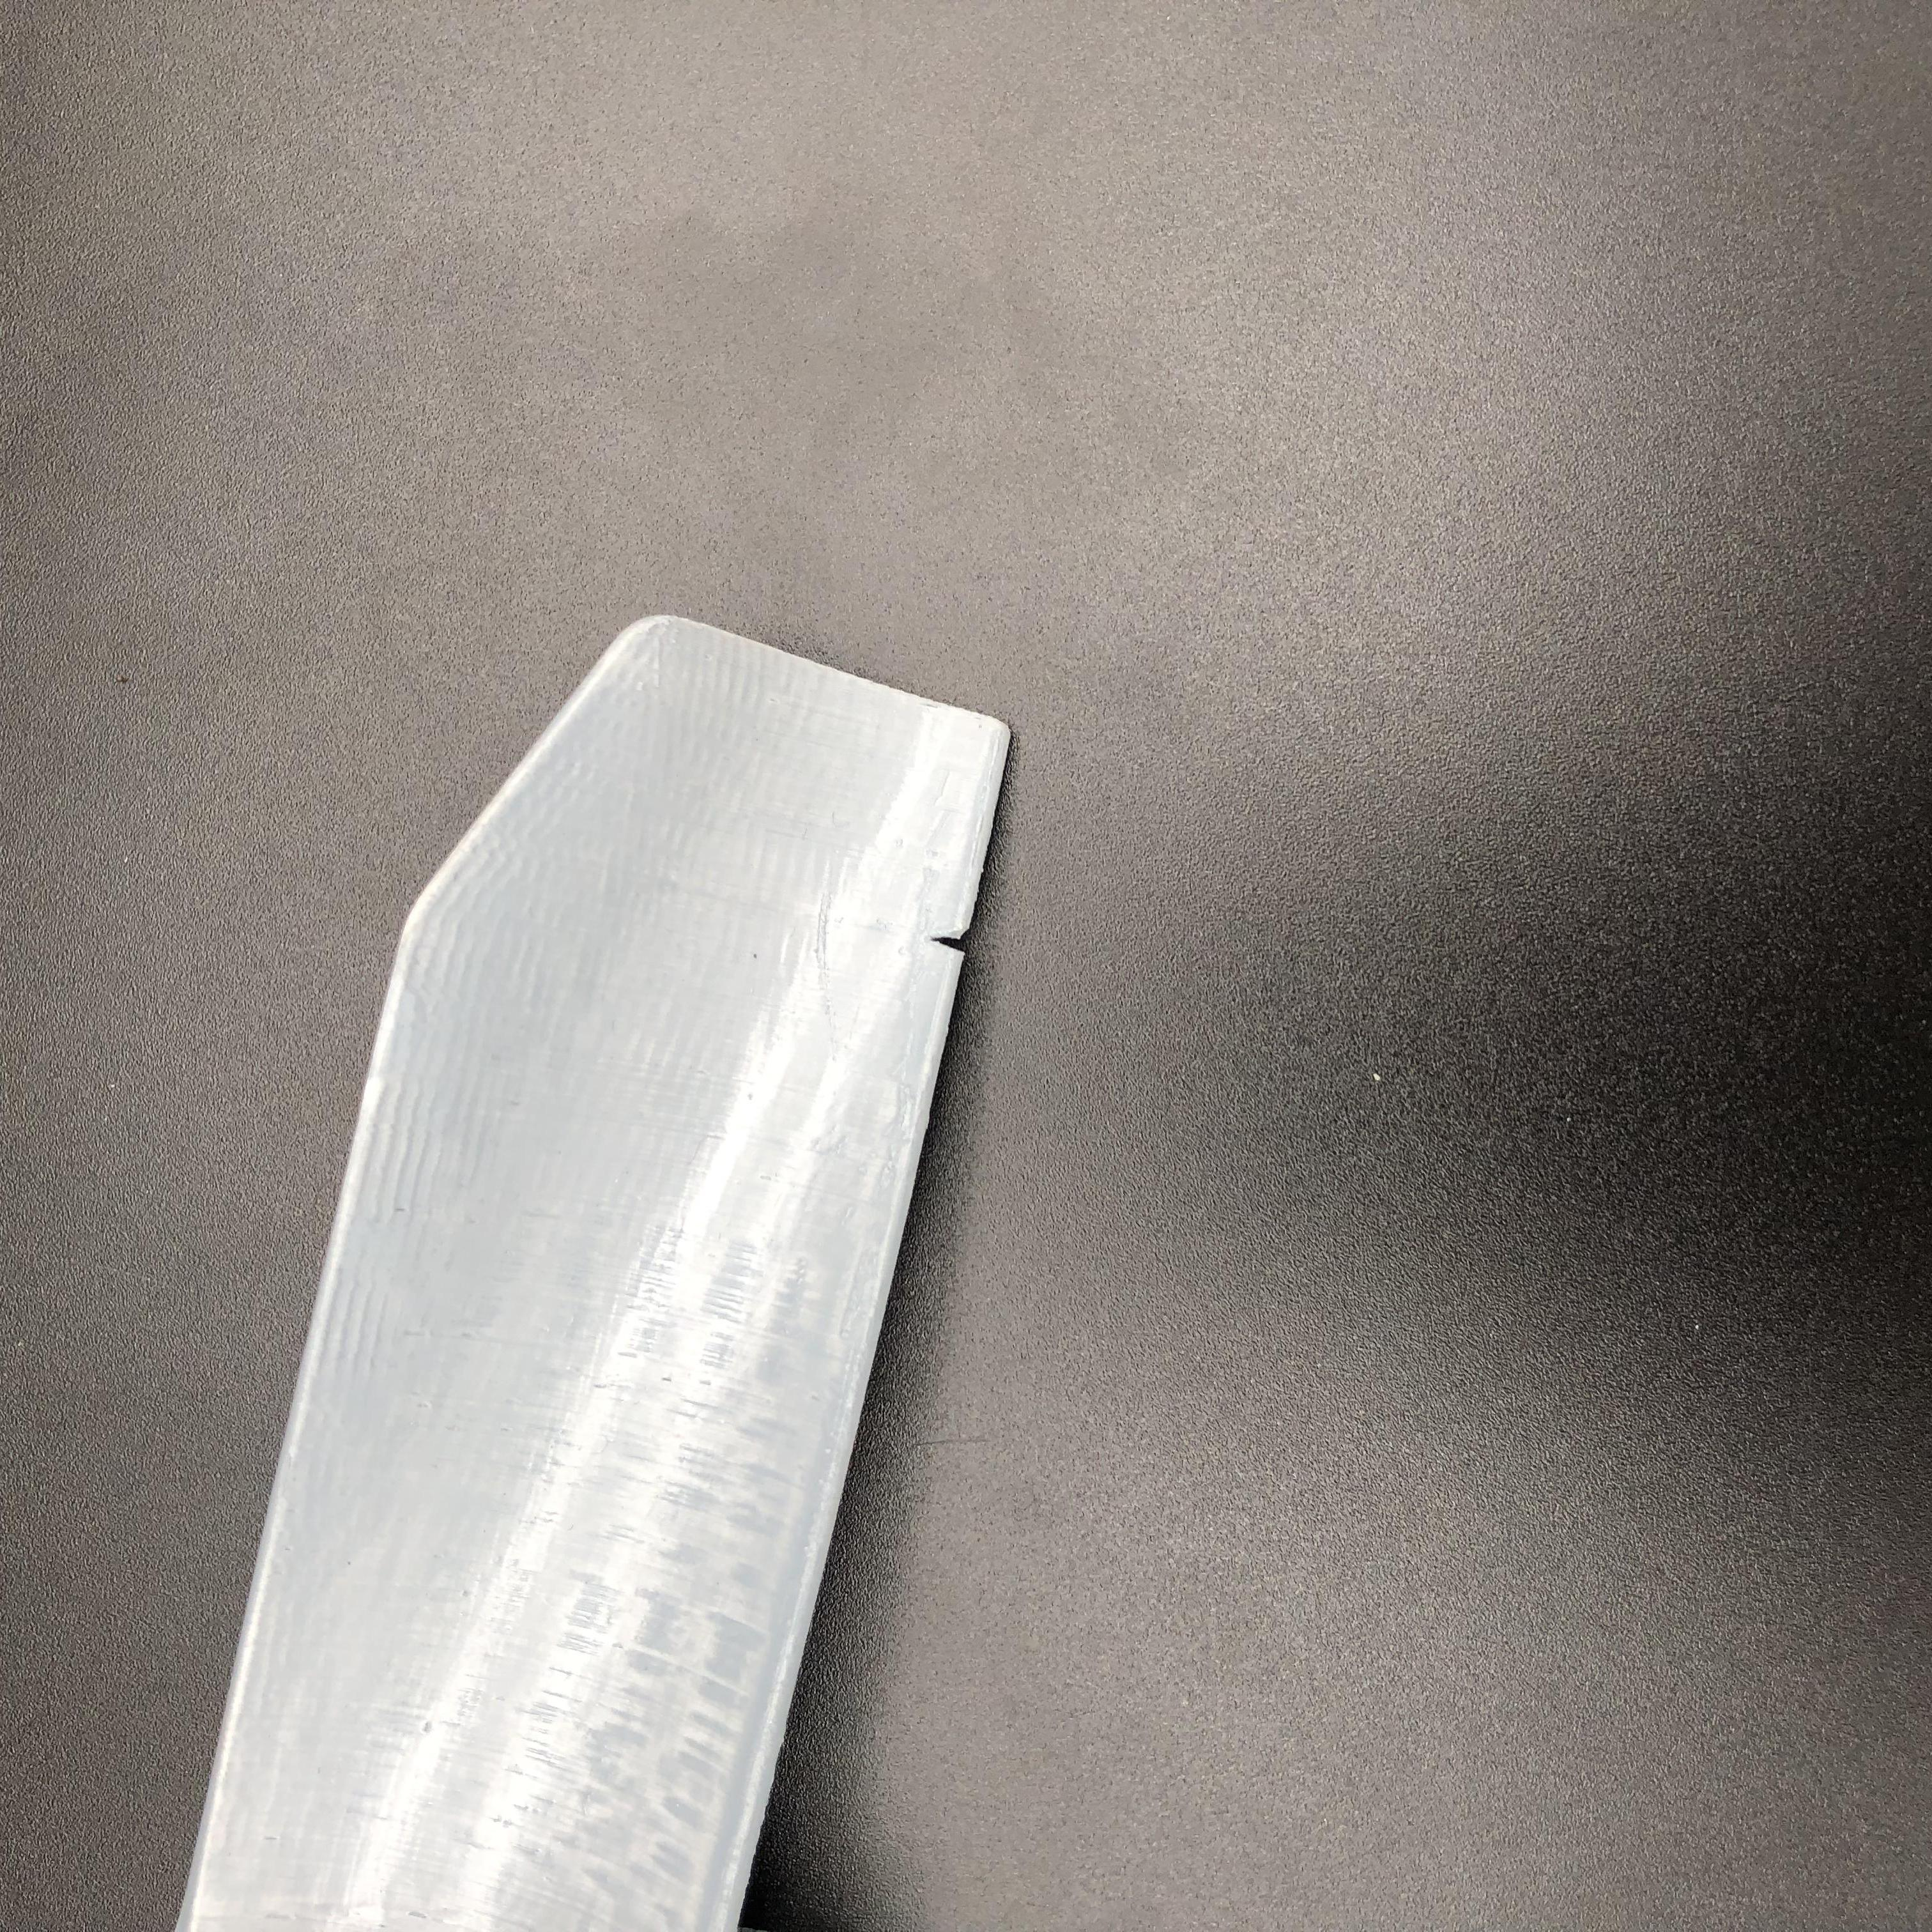groove: (929, 922, 973, 964)
